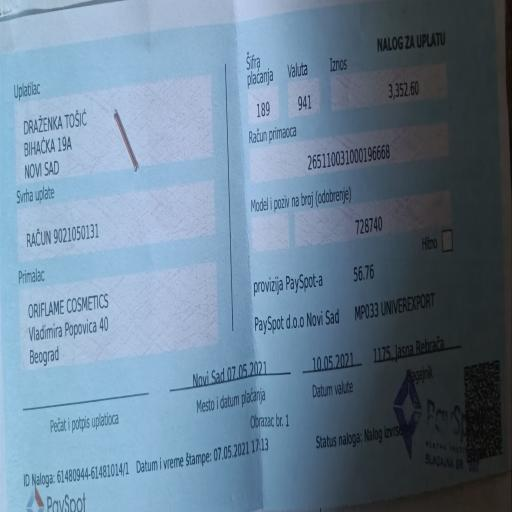svrha_uplate: (15, 172, 202, 263)
uplatnica: (239, 17, 464, 268)
